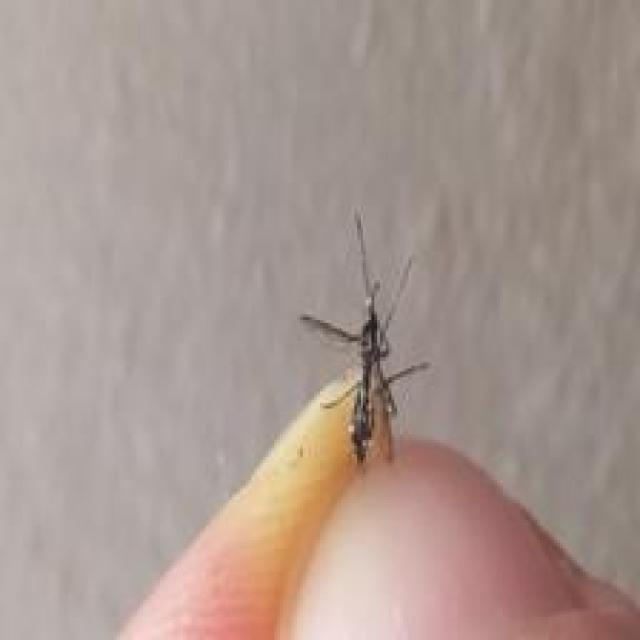Aedes albopictus: (297, 207, 432, 467)
